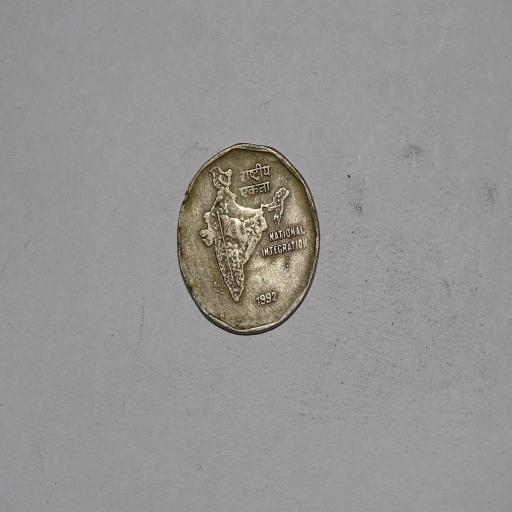rupee2: (171, 142, 322, 337)
